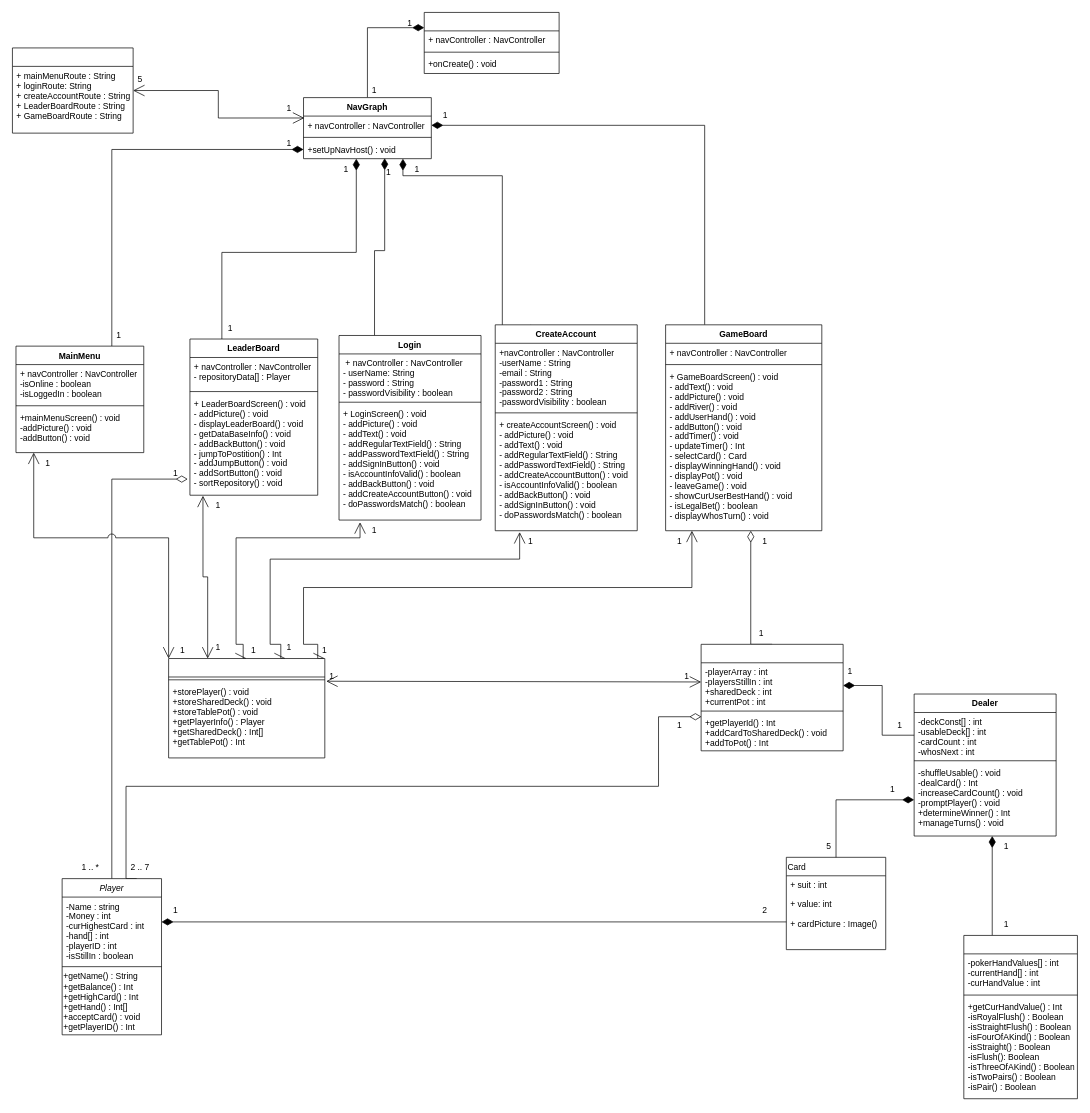
This 1090x1113 diagram has some shape labels left out. The shapes that lost their labels are listed below. From the top down, each one's box as (x1, y1, x2, y2) in pixels, then its label:
(424, 12, 559, 73): MainActivity
(12, 47, 133, 133): Screen
(168, 658, 325, 758): Database
(700, 644, 843, 751): Table
(963, 935, 1077, 1099): CheckHand
